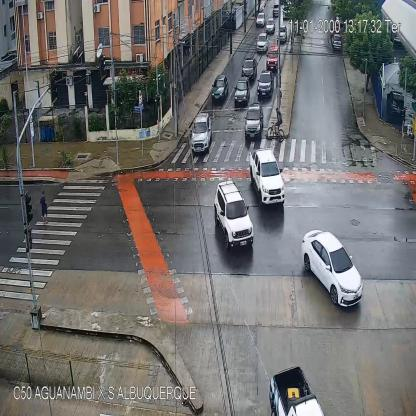bicycle: (266, 108, 284, 140)
car: (302, 230, 364, 308), (214, 180, 254, 249), (270, 366, 322, 416), (249, 148, 285, 206), (190, 114, 210, 154), (246, 103, 263, 136), (212, 74, 229, 102), (234, 78, 250, 107), (258, 71, 272, 98), (242, 58, 256, 82), (266, 46, 278, 70), (257, 35, 268, 52), (276, 26, 287, 43), (333, 34, 341, 51), (266, 18, 274, 34), (256, 12, 265, 26), (274, 5, 280, 17)
person: (40, 188, 46, 224)
